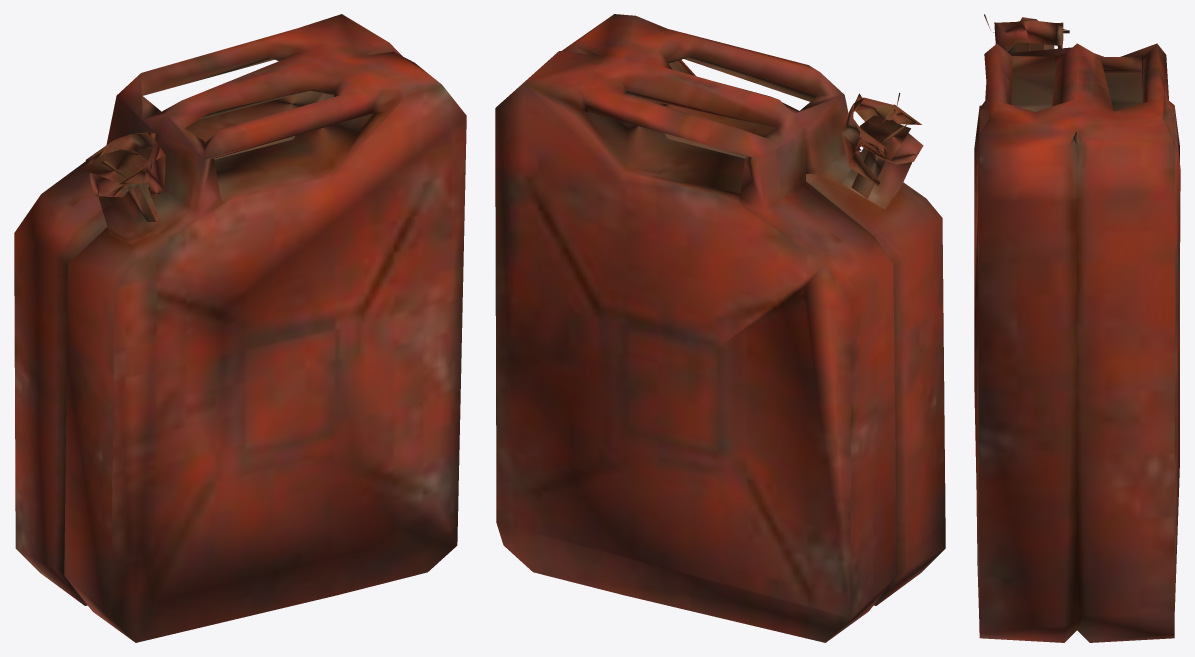
File: jerrycan.glb
3 views of the same model, side by side, from view 1: azimuth 30°, elevation 25°; view 2: azimuth 150°, elevation 25°; view 3: azimuth 270°, elevation 25° (orthographic). The views are drawn at different scales.
Parts seen in each view (by area): view 1: metal_jerrycan; view 2: metal_jerrycan; view 3: metal_jerrycan.
Boxes of the visible parts, x1=… form: metal_jerrycan: x1=14, y1=14, x2=466, y2=642; metal_jerrycan: x1=495, y1=14, x2=945, y2=642; metal_jerrycan: x1=974, y1=14, x2=1180, y2=642.
Bounding box in the file's own units: 0.3465 × 0.4541 × 0.1686.
Materials: 1 (1 with a texture image).
